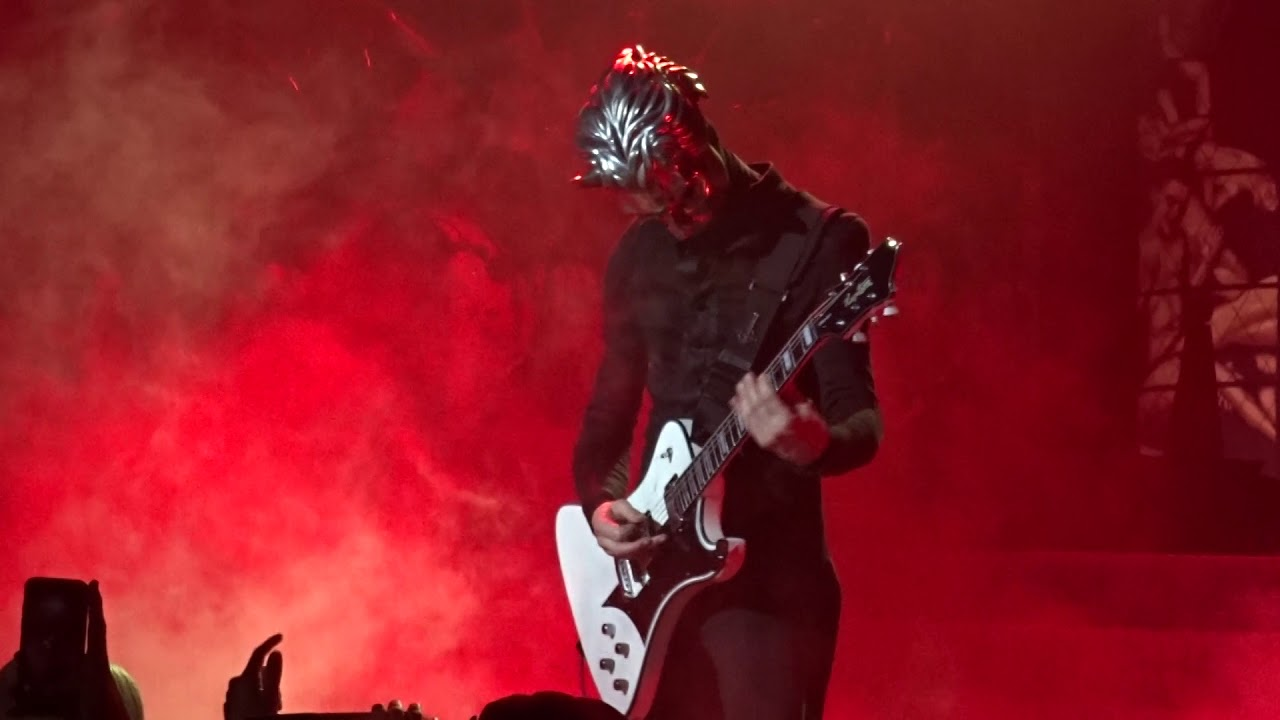acousticguitar: (552, 234, 909, 717)
